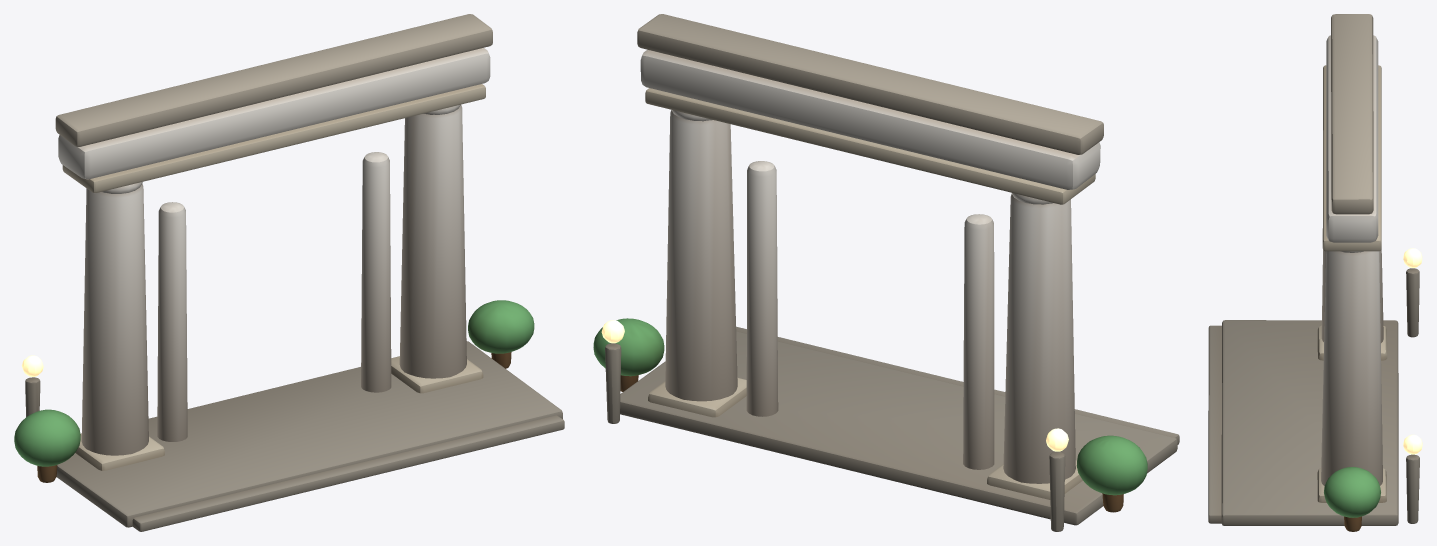
3 views of the same model, side by side, from view 1: azimuth 30°, elevation 25°; view 2: azimuth 150°, elevation 25°; view 3: azimuth 270°, elevation 25° (orthographic). The views are drawn at different scales.
Visible parts, largest first — view 1: gate_11c6c7ee; view 2: gate_11c6c7ee; view 3: gate_11c6c7ee.
Part boxes in pixels (box(x1,y1,x2,y2)): gate_11c6c7ee: box(14, 14, 564, 531); gate_11c6c7ee: box(593, 14, 1179, 531); gate_11c6c7ee: box(1208, 14, 1422, 531).
Size of the model in its own units: 6.45 by 4.26 by 2.55.
